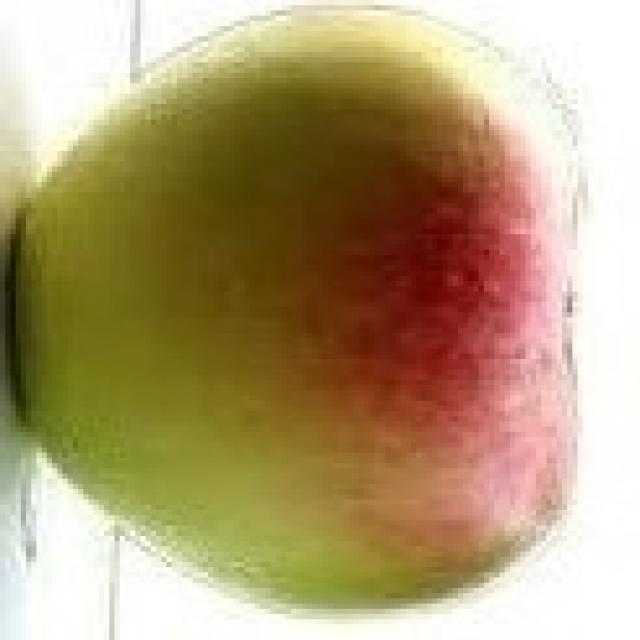75-_ripeness: (12, 9, 585, 617)
